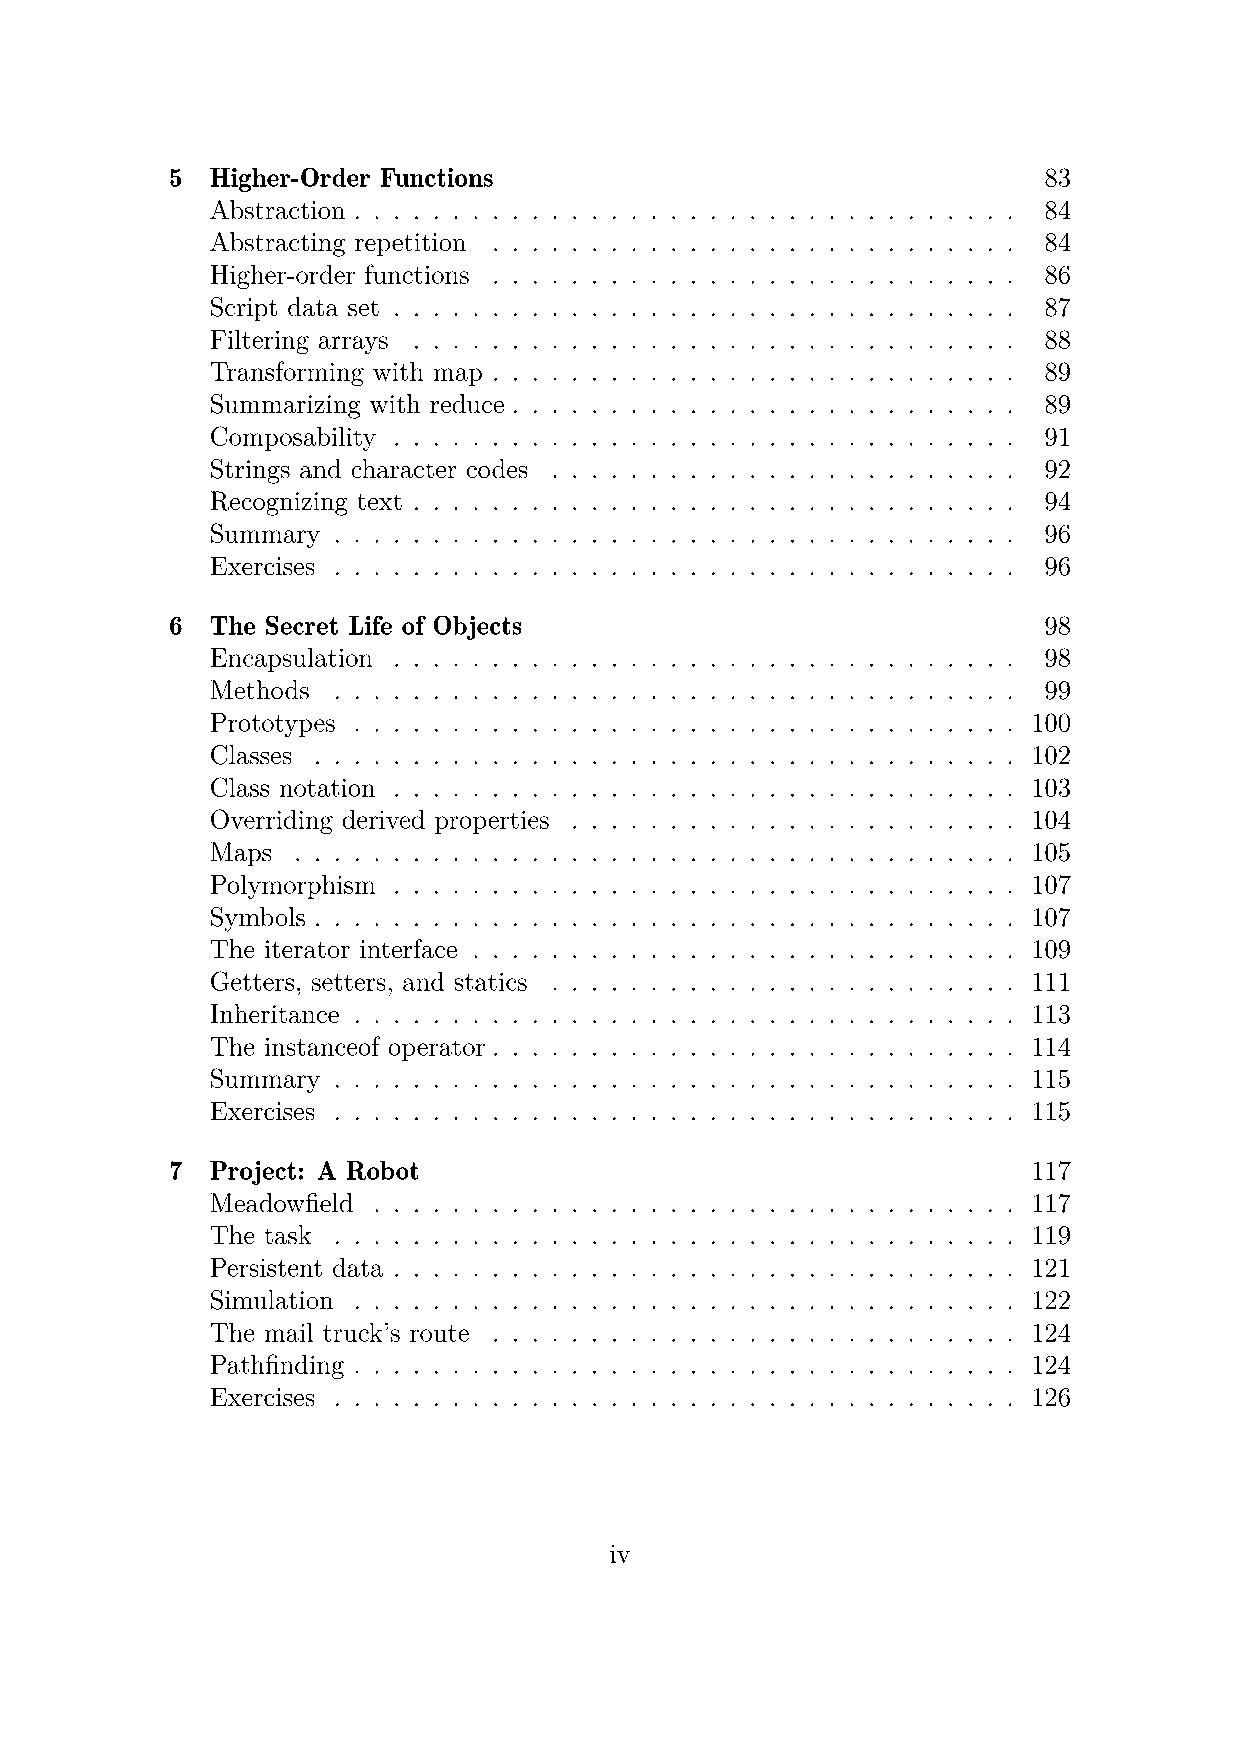TOC_chapter: (170, 156, 502, 193), (168, 609, 525, 640), (209, 966, 530, 998), (207, 1029, 488, 1064), (209, 807, 556, 835), (207, 357, 488, 389), (209, 454, 531, 482), (165, 1151, 421, 1186), (209, 392, 509, 421), (207, 259, 476, 290), (207, 1318, 474, 1347), (209, 229, 471, 258), (209, 935, 459, 964), (207, 323, 392, 358), (204, 868, 377, 902), (207, 293, 385, 323), (207, 421, 377, 452), (207, 773, 380, 803), (207, 1252, 385, 1280), (209, 488, 405, 514), (207, 1349, 344, 1381), (209, 646, 374, 671), (207, 998, 341, 1029), (207, 707, 337, 738), (207, 196, 349, 224), (207, 1066, 326, 1096), (204, 1190, 358, 1213), (207, 1286, 335, 1310), (209, 521, 319, 549), (203, 902, 307, 931), (207, 676, 313, 705), (203, 1382, 319, 1408), (204, 1100, 321, 1125), (207, 552, 317, 576), (204, 1219, 313, 1243), (207, 743, 297, 768), (207, 837, 276, 866)
TOC_pagenumber: (1028, 1154, 1076, 1184), (1032, 1283, 1075, 1312), (1037, 451, 1078, 482), (1032, 870, 1072, 900), (1031, 739, 1074, 768), (1031, 807, 1074, 835), (1031, 1253, 1074, 1282), (1031, 1319, 1074, 1347), (1032, 902, 1071, 933), (1032, 1219, 1074, 1247), (1028, 1033, 1074, 1059), (1031, 1066, 1074, 1092), (1032, 840, 1072, 868), (1027, 774, 1076, 797), (1032, 968, 1070, 997), (1031, 935, 1074, 961), (1032, 1186, 1072, 1213), (1039, 421, 1074, 452), (1039, 519, 1076, 548), (1041, 323, 1074, 356), (1040, 391, 1074, 421), (1037, 160, 1074, 188), (1033, 1098, 1071, 1125), (1031, 1385, 1074, 1408), (1032, 1002, 1072, 1027), (1032, 713, 1074, 735), (1032, 1354, 1072, 1377), (1043, 552, 1072, 582), (1041, 193, 1074, 221), (1041, 293, 1071, 321), (1040, 228, 1074, 252), (1039, 360, 1076, 381), (1040, 648, 1075, 671), (1043, 487, 1071, 515), (1043, 676, 1071, 705), (1040, 613, 1072, 637), (1045, 260, 1071, 289)
content_pagenumber: (599, 1527, 635, 1569)
